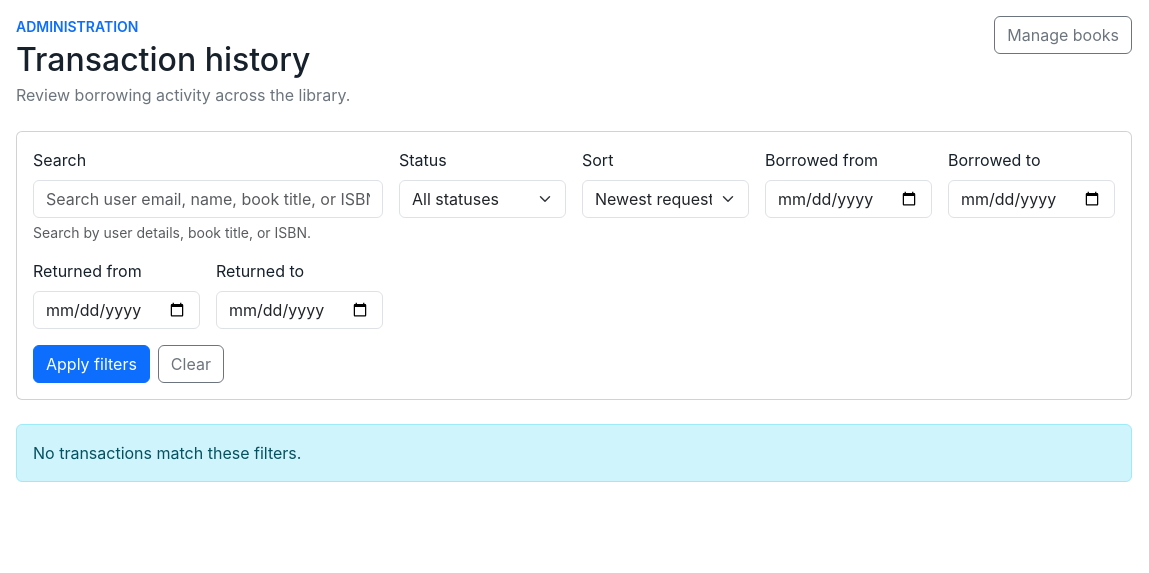
it: AdminTransactionsComponent › rejects an inverted date range before navigating
Type "2026-09-26" into the date field labelled "Borrowed from" at (848,199), box x1=765 y1=180 x2=932 y2=218
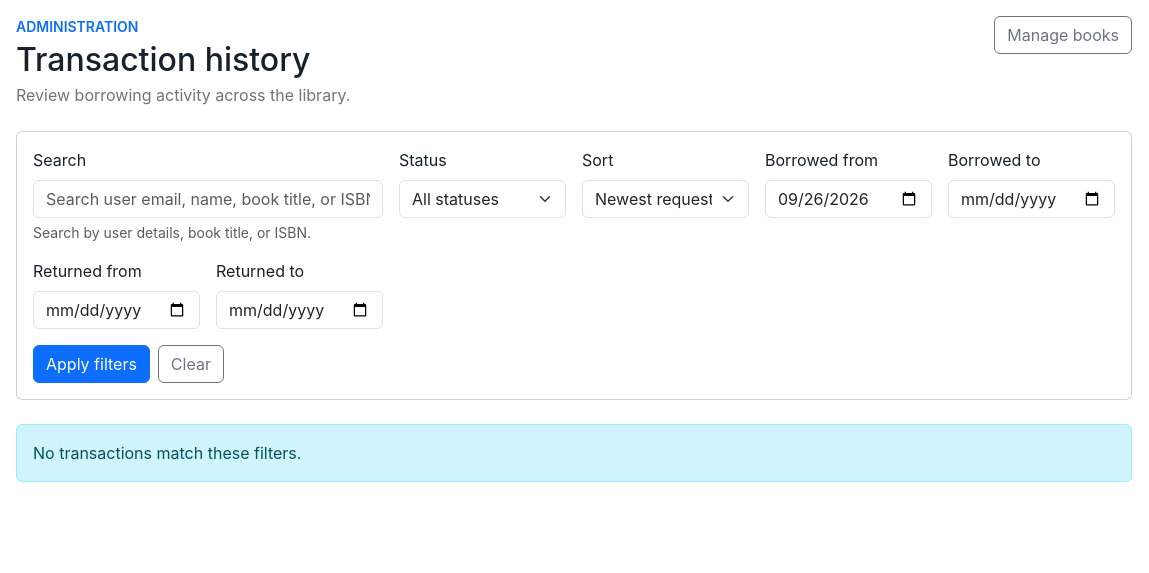
Type "2026-09-01" into the date field labelled "Borrowed to" at (1032,199), box x1=948 y1=180 x2=1115 y2=218
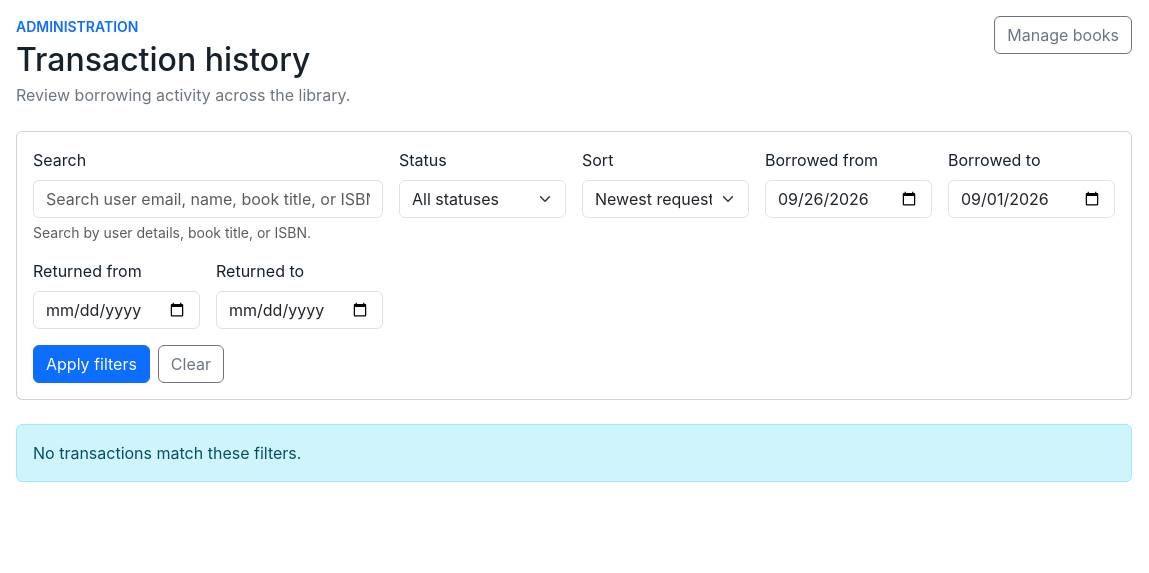
Submit the form, box x1=16 y1=131 x2=1132 y2=400
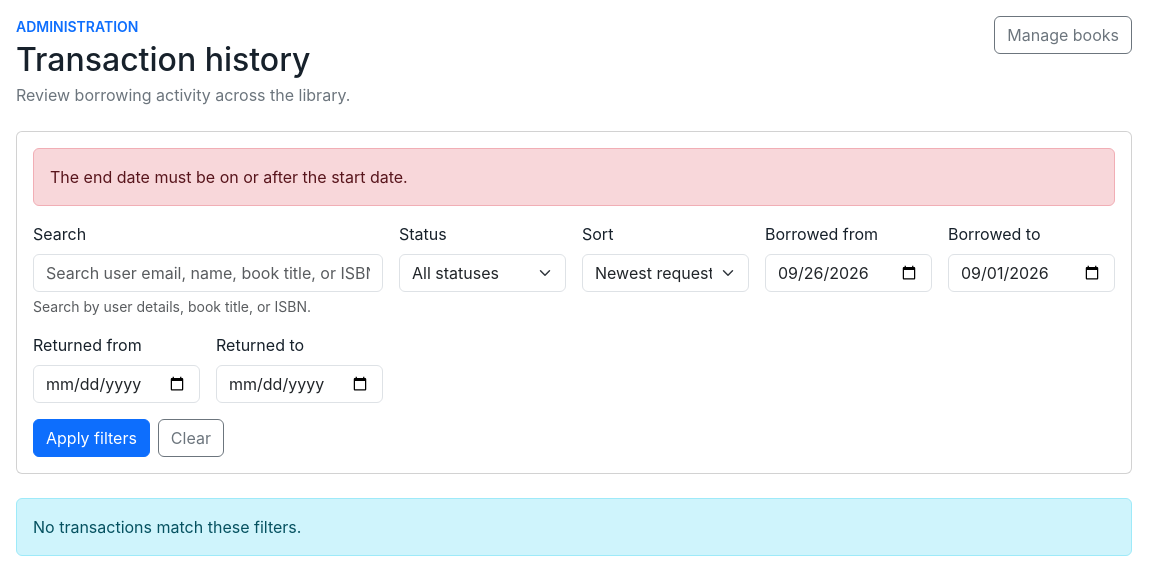
Result: the text "The end date must be on or after the start date." is shown at x1=33 y1=148 x2=1115 y2=206
